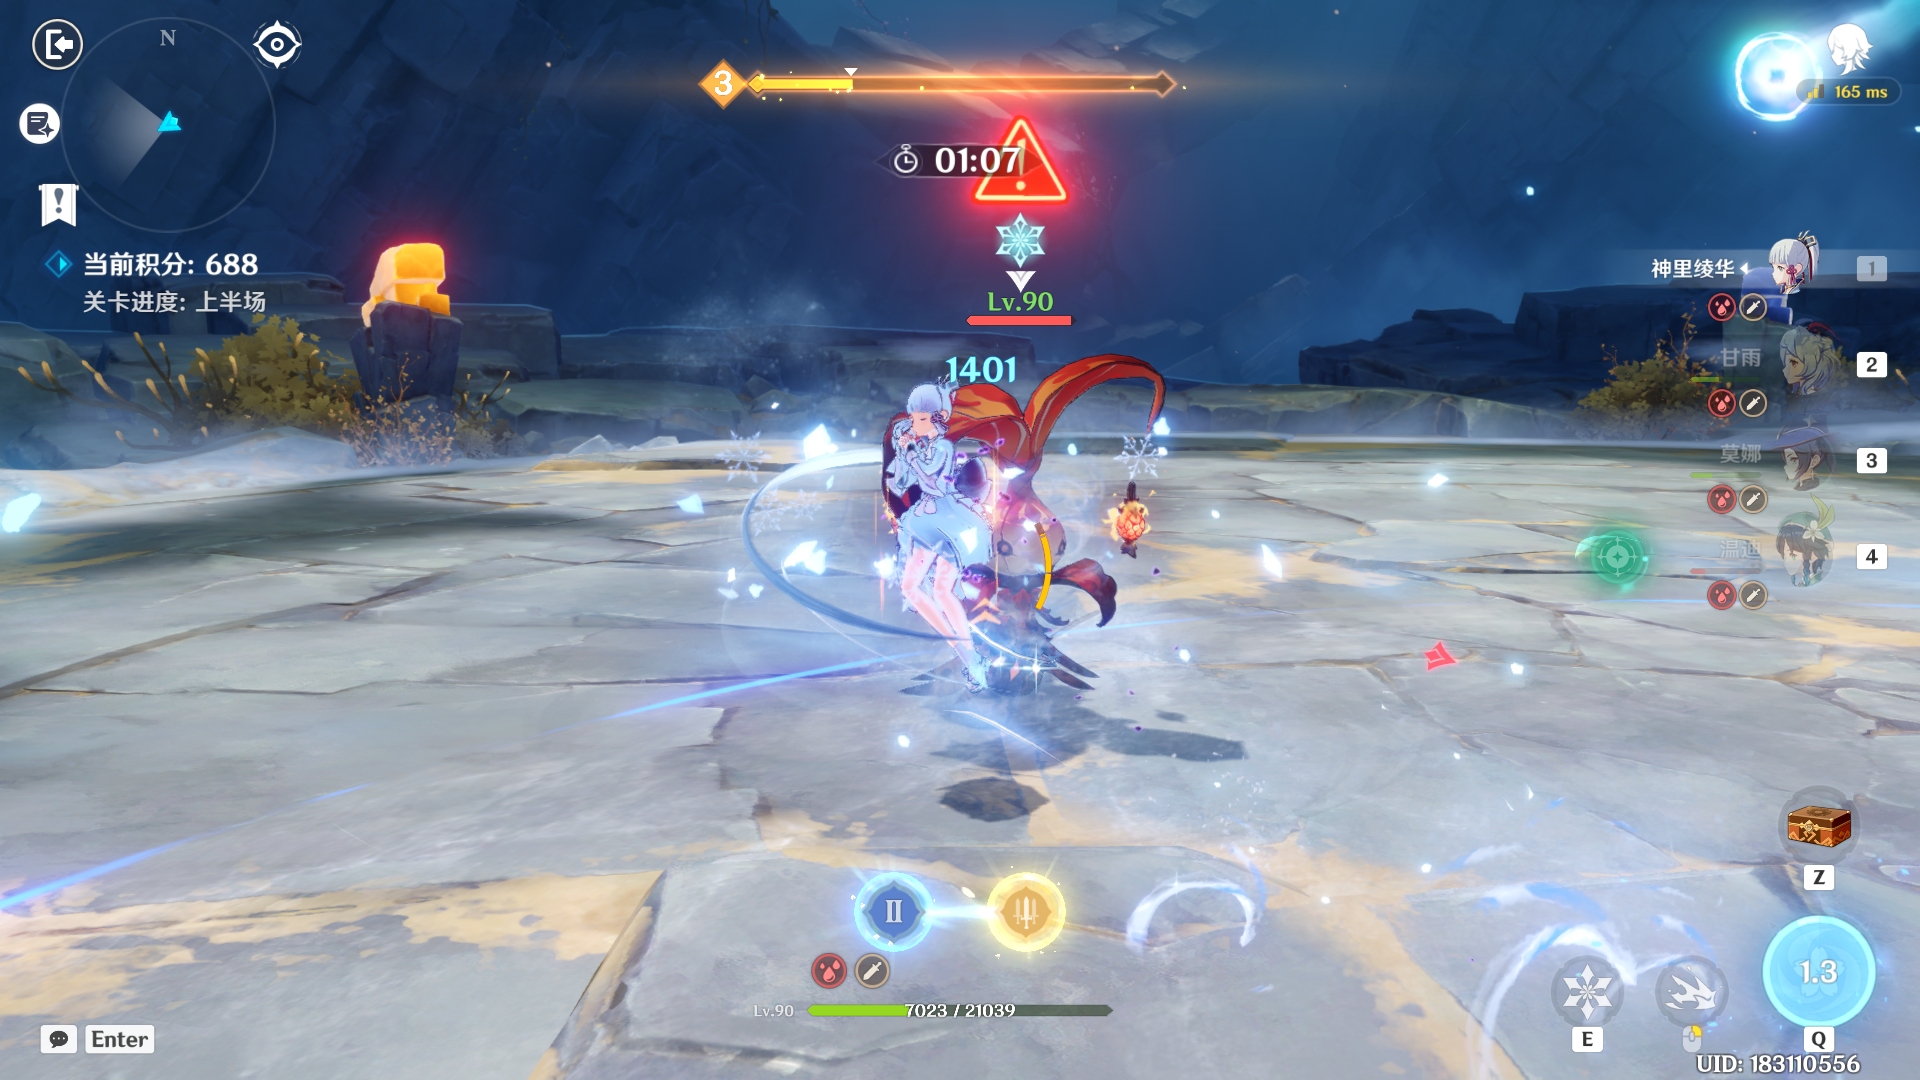character: (827, 345, 1065, 703)
